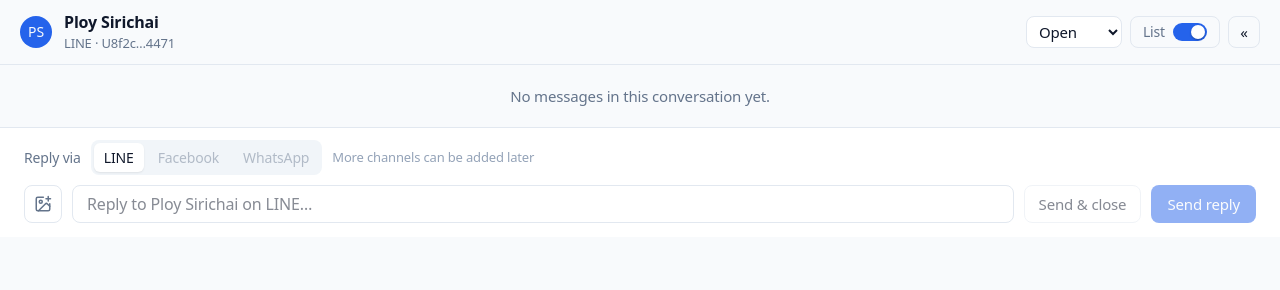
Scenario: optimistic send › marks a failed send failed, and the bubble does not vanish
The image size is (1280, 290).
Type "On the 12th." into the field named "Reply message" at (543, 204), box [72,185,1014,223]
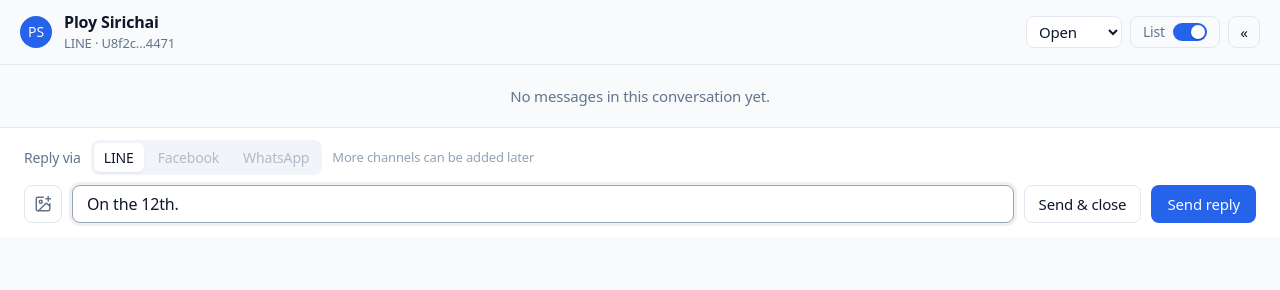
Click the button "Send reply" at (1204, 204), box [1151,185,1256,223]
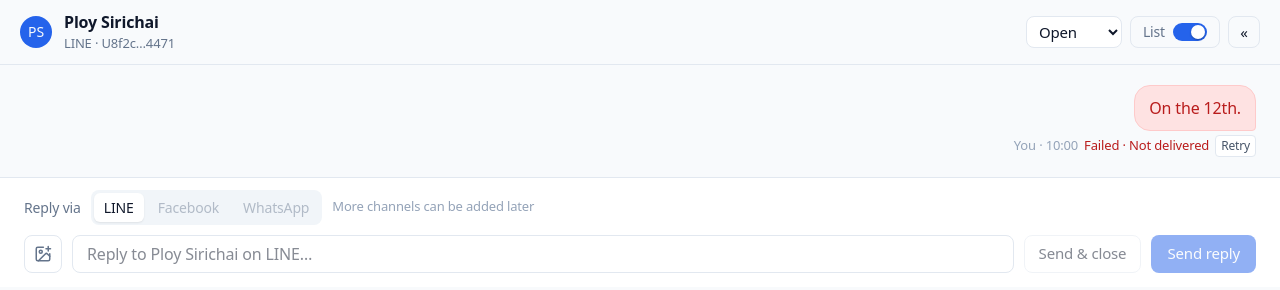
Expected: the element with test id "message-bubble" shows "On the 12th.", [1149,96,1241,118]
Expected: the button "Retry" is shown, [1215,134,1256,156]
